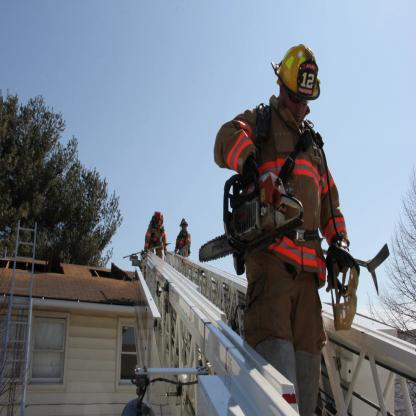Helmet: (275, 42, 322, 118)
